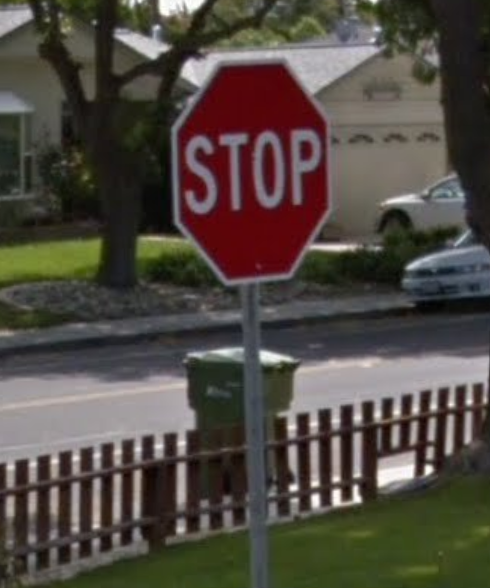stop_sign: (174, 60, 331, 284)
